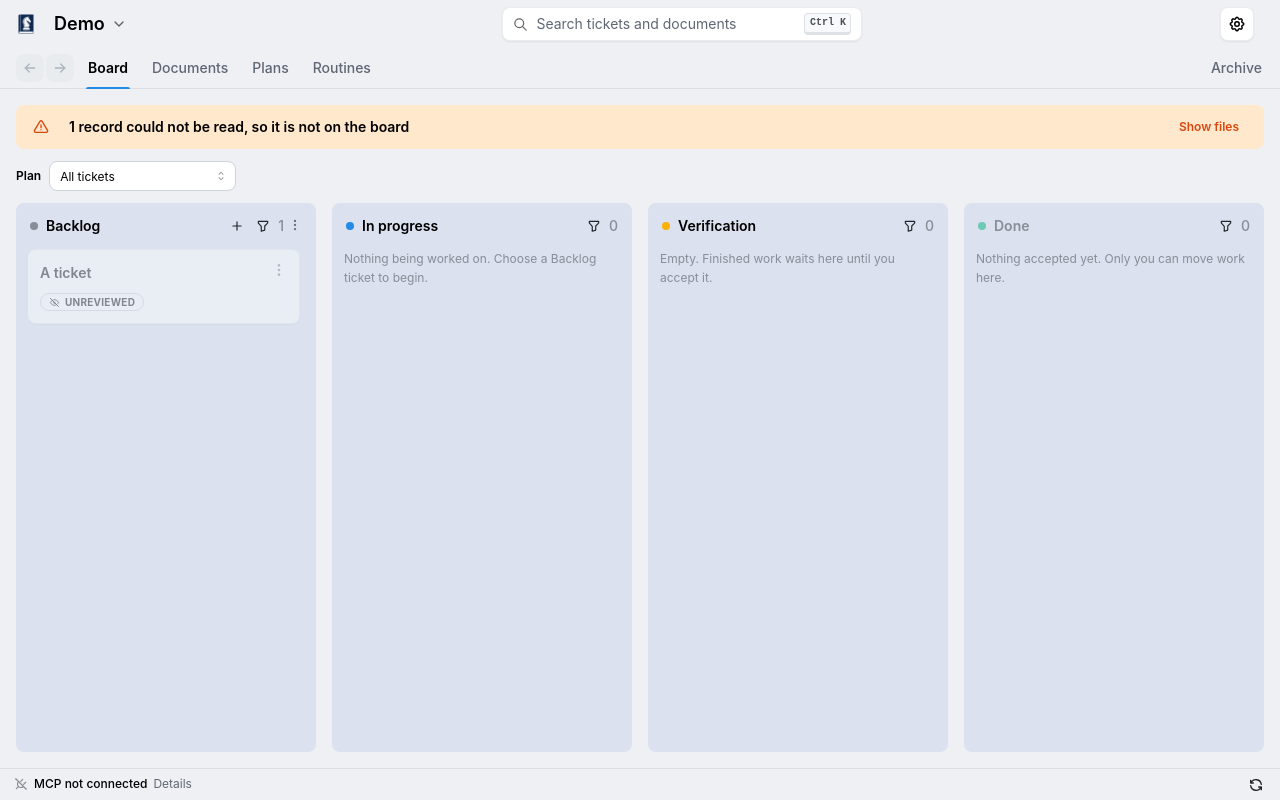
it: the detail view around unreadable records › says a prerequisite could not be read, rather than that it does not exist
Click the text "A ticket".
click(66, 272)  # box x1=40 y1=264 x2=91 y2=281
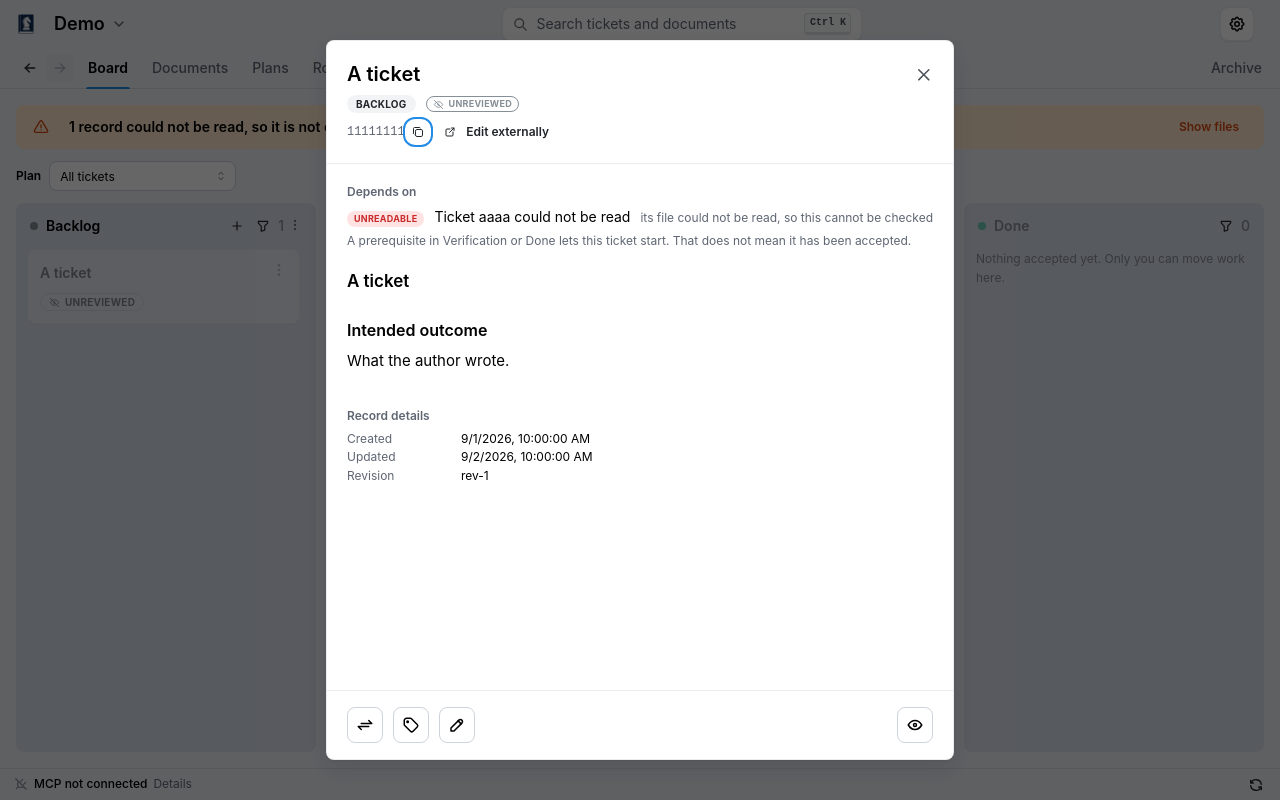
Now the text "Ticket aaaa could not be read" is shown, box x1=434 y1=207 x2=630 y2=227
Now the text "Unreadable" is shown, box x1=354 y1=212 x2=417 y2=226
Now the text "its file could not be read, so this cannot be checked" is shown, box x1=640 y1=210 x2=933 y2=227
